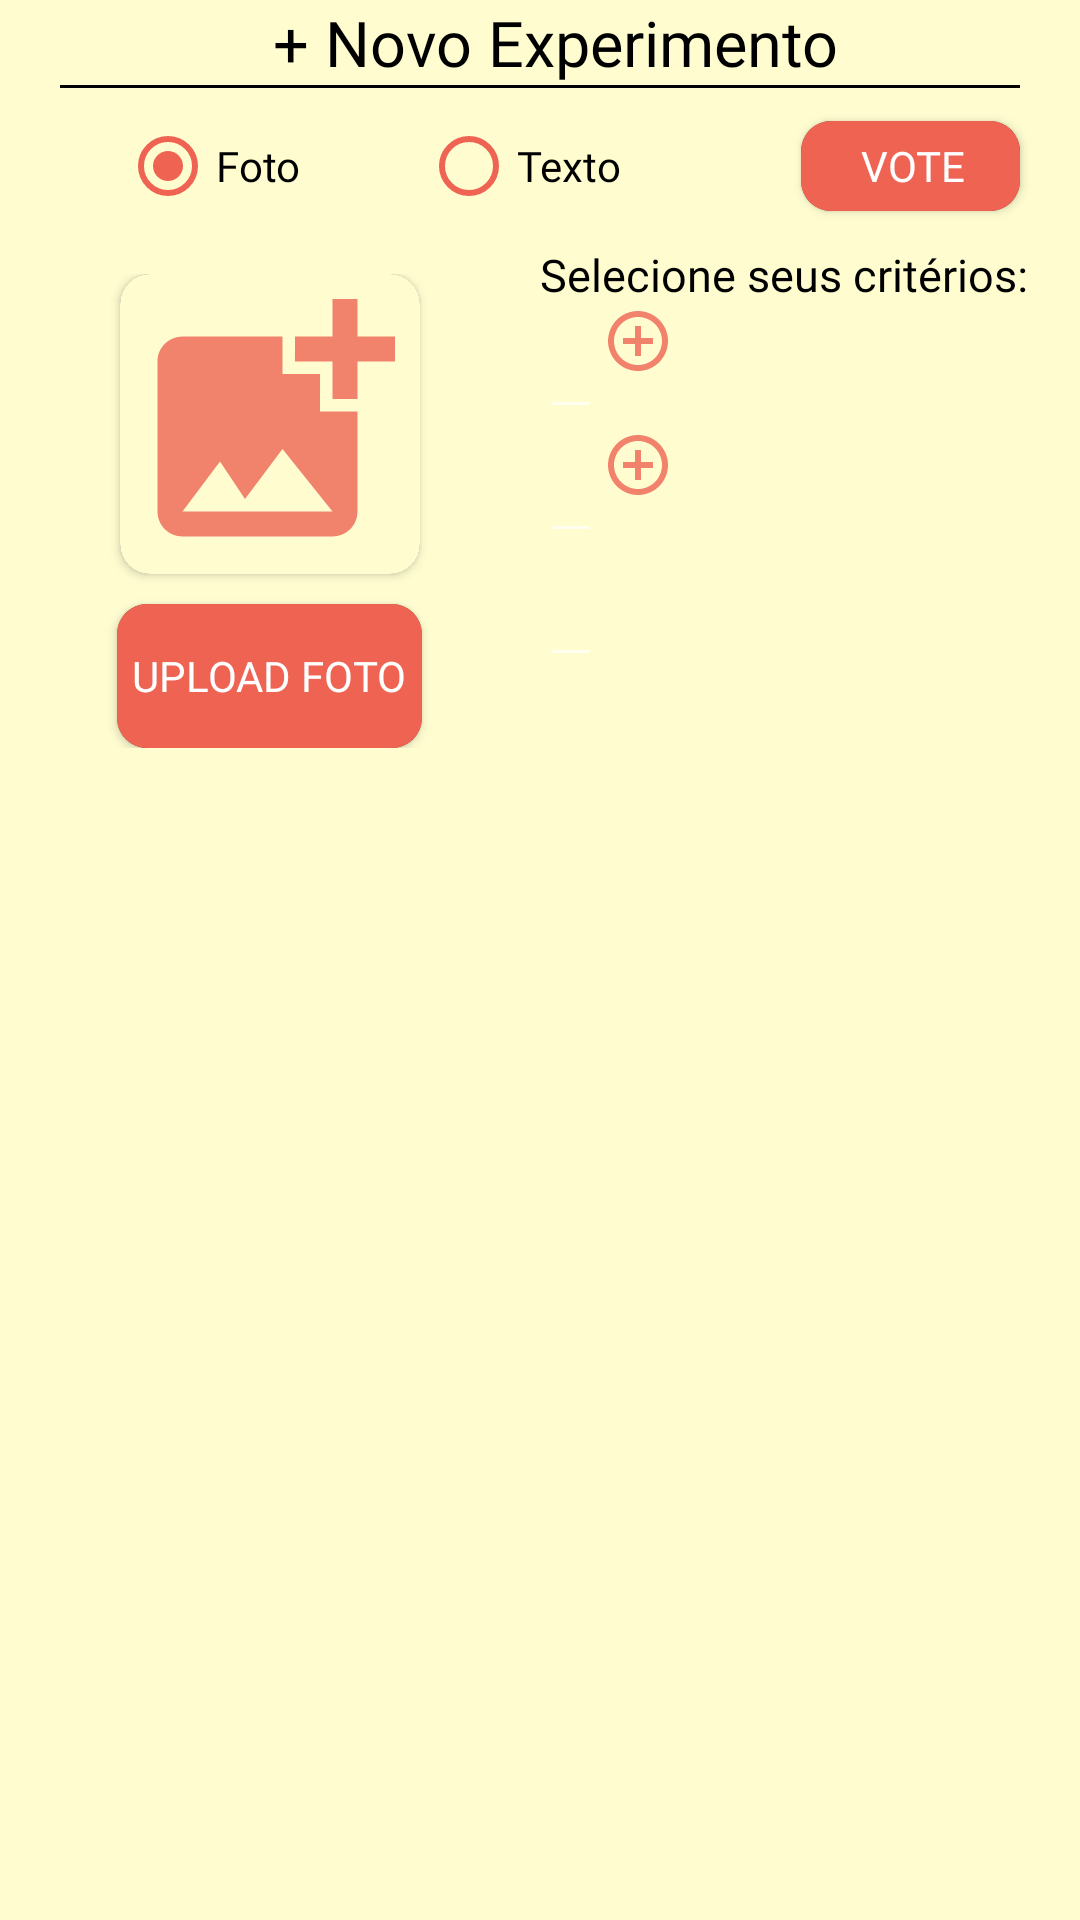

Where icons sit on this 1080 × 1920 app screen, as (x1, y1, x2, y2):
add: (608, 311, 668, 371), (608, 435, 668, 495)
